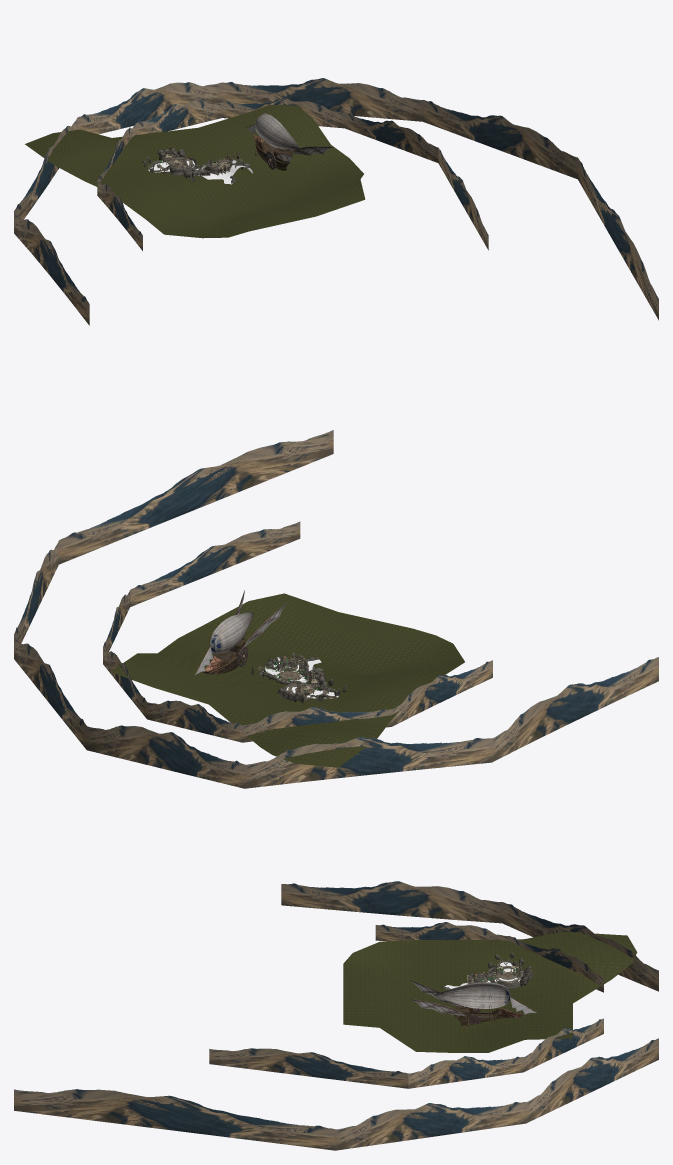
Rendered from stageProb.fbx.
3 views of the same model, one above another, from view 1: azimuth 30°, elevation 25°; view 2: azimuth 150°, elevation 25°; view 3: azimuth 270°, elevation 25° (orthographic). The views are drawn at different scales.
Visible parts, largest first — view 1: crystal02_c02_02, lobby03_Sky, lobby03_Sky001, crystal02_d01_02, crystal02_d03_02, crystal02_d01_03, crystal02_c01_01, crystal02_d01_01; view 2: lobby03_Sky, crystal02_c02_02, lobby03_Sky001, crystal02_d01_02, crystal02_d03_02; view 3: lobby03_Sky, crystal02_c02_02, lobby03_Sky001, crystal02_d01_02, crystal02_d03_02.
Part boxes in pixels (x1,y1,x2,y2): crystal02_c02_02: (25, 98, 365, 238); lobby03_Sky: (14, 78, 658, 325); lobby03_Sky001: (97, 98, 488, 250); crystal02_d01_02: (245, 113, 333, 170); crystal02_d03_02: (142, 148, 207, 181); crystal02_d01_03: (147, 146, 196, 175); crystal02_c01_01: (148, 160, 253, 184); crystal02_d01_01: (190, 154, 242, 177); lobby03_Sky: (14, 430, 658, 788); crystal02_c02_02: (110, 593, 464, 767); lobby03_Sky001: (103, 521, 492, 742); crystal02_d01_02: (192, 590, 289, 678); crystal02_d03_02: (277, 667, 346, 703); lobby03_Sky: (14, 881, 658, 1150); crystal02_c02_02: (343, 931, 637, 1052); lobby03_Sky001: (209, 922, 603, 1088); crystal02_d01_02: (409, 979, 540, 1027); crystal02_d03_02: (470, 952, 533, 986).
Size of the model in its own units: 660 by 111 by 733.
8 materials, 7 textured.
